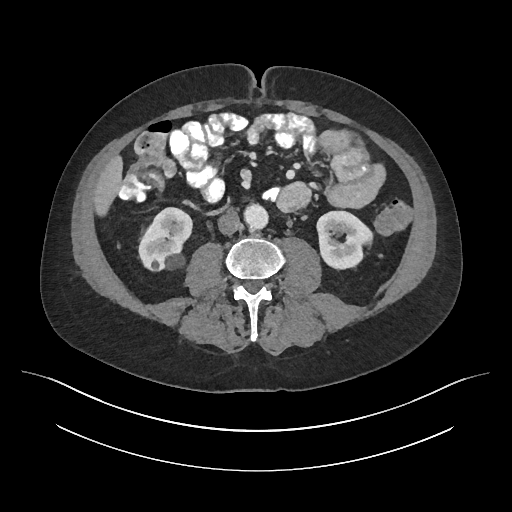Lesion: (163, 248, 189, 272)
